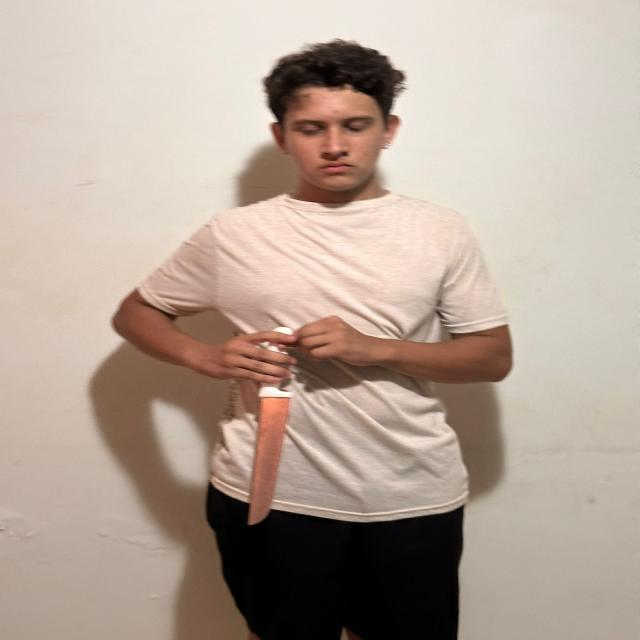knife: (248, 395, 289, 522)
